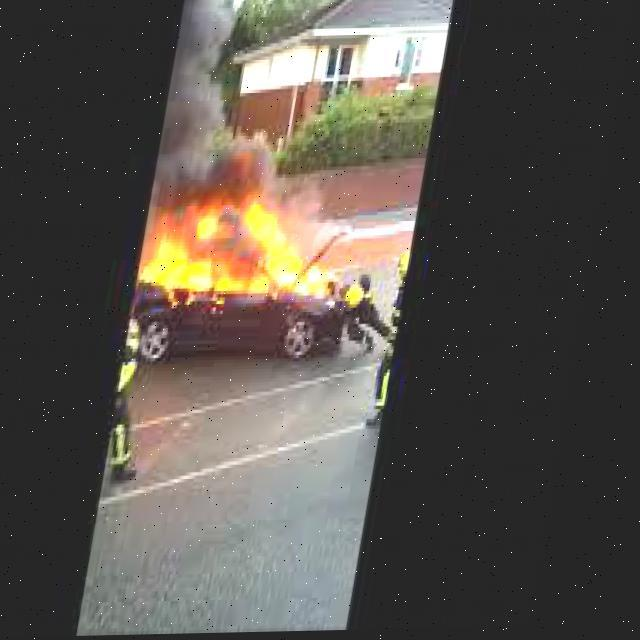Fire: (134, 161, 388, 317)
